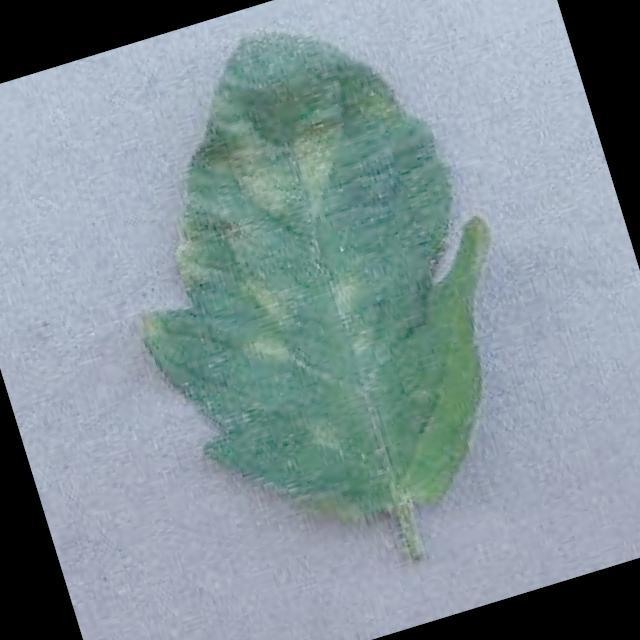Tomato mold leaf: (59, 0, 567, 582)
